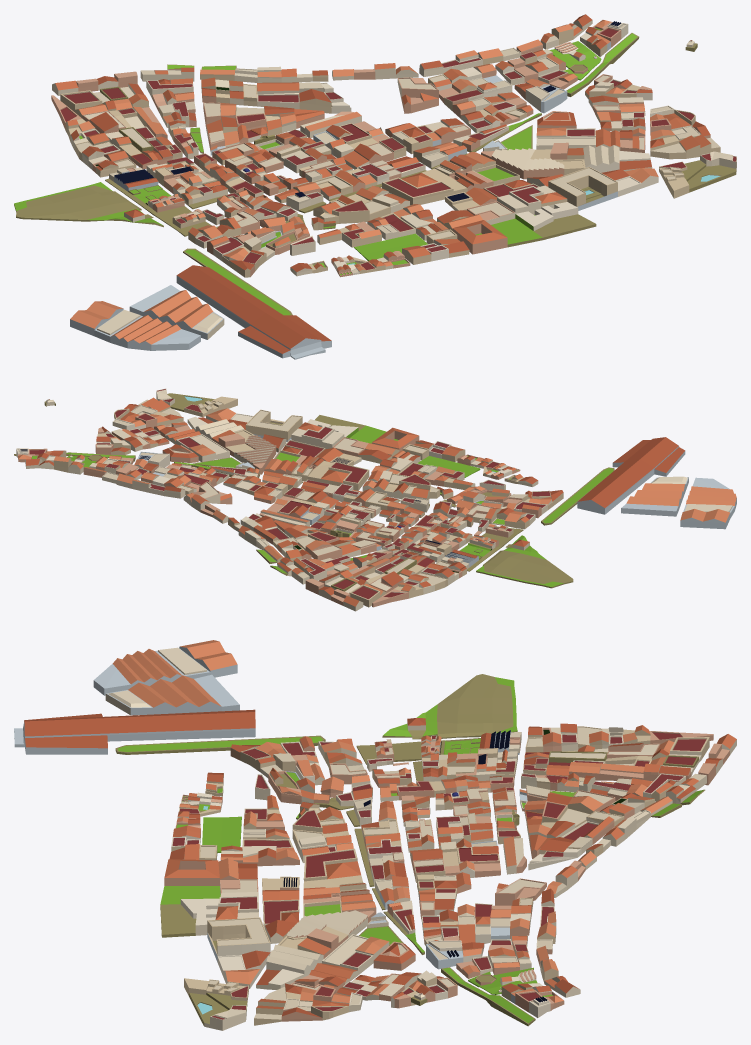
Rendered from houses.glb.
3 renders of one model, top to bottom at view 1: azimuth 30°, elevation 25°; view 2: azimuth 150°, elevation 25°; view 3: azimuth 270°, elevation 25°, orthographic. The views are drawn at different scales.
Visible parts, largest first — view 1: CasasPueblo; view 2: CasasPueblo; view 3: CasasPueblo.
Part boxes in pixels (x1,y1,x2,y2): CasasPueblo: [14, 14, 736, 359]; CasasPueblo: [14, 388, 736, 611]; CasasPueblo: [14, 640, 736, 1030].
Bounding box in the file's own units: 1280 × 90.81 × 974.
